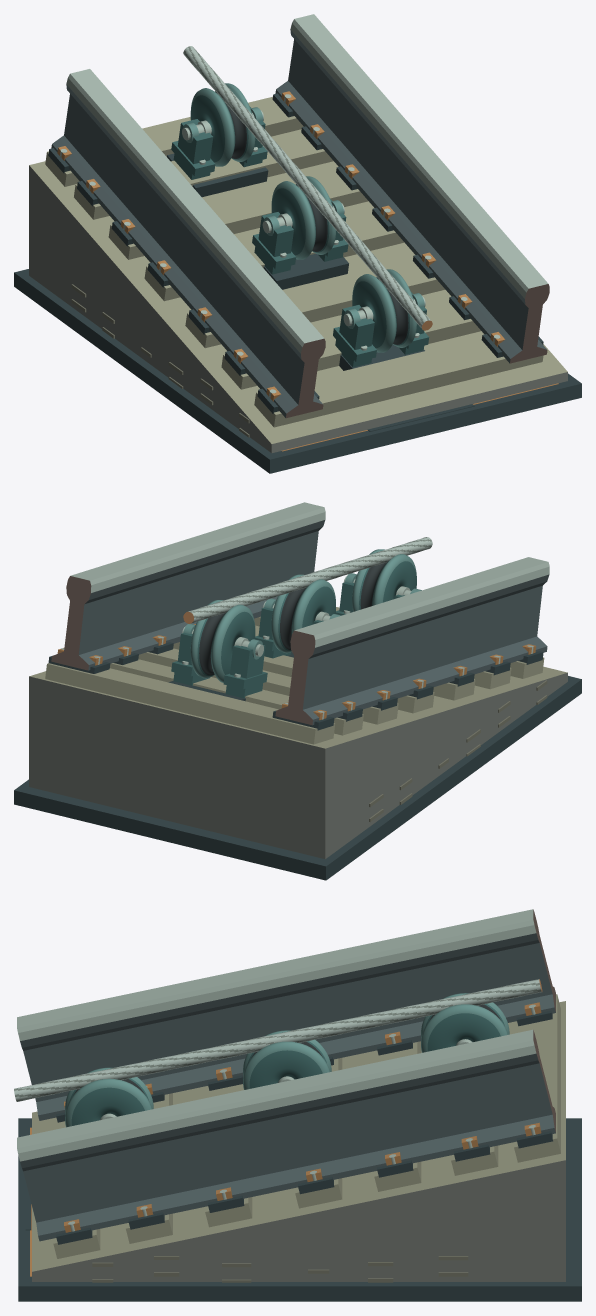
The model's file is funicular-cable-guide-roller-section.glb.
3 views of the same model, one above another, from view 1: azimuth 30°, elevation 25°; view 2: azimuth 150°, elevation 25°; view 3: azimuth 270°, elevation 25° (orthographic). The views are drawn at different scales.
Parts seen in each view (by area): view 1: Short solid slope sample heel, Continuous right section rail head web and foot, Continuous left section rail head web and foot, Clean low grayed exhibit plinth, Genuine transverse grey bearer 0, One unbroken sculpted centre haul rope, Genuine transverse grey bearer 2, Genuine transverse grey bearer 4, CONCAVE_GUIDE_ROLLER_3, CONCAVE_GUIDE_ROLLER_2, CONCAVE_GUIDE_ROLLER_1, Genuine transverse grey bearer 5 (+8 smaller); view 2: Short solid slope sample heel, Continuous left section rail head web and foot, Continuous right section rail head web and foot, Clean low grayed exhibit plinth, Genuine transverse grey bearer 6, CONCAVE_GUIDE_ROLLER_3, One unbroken sculpted centre haul rope, CONCAVE_GUIDE_ROLLER_2, CONCAVE_GUIDE_ROLLER_1, Genuine transverse grey bearer 5, Genuine transverse grey bearer 4, Genuine transverse grey bearer 3 (+4 smaller); view 3: Continuous right section rail head web and foot, Short solid slope sample heel, Continuous left section rail head web and foot, Clean low grayed exhibit plinth, One unbroken sculpted centre haul rope, CONCAVE_GUIDE_ROLLER_1, CONCAVE_GUIDE_ROLLER_2, CONCAVE_GUIDE_ROLLER_3, Genuine transverse grey bearer 6, Genuine transverse grey bearer 4, Genuine transverse grey bearer 2, Genuine transverse grey bearer 1 (+3 smaller).
Boxes of the visible parts, x1,y1,x2,y2 form: Short solid slope sample heel: (29, 129, 567, 453); Continuous right section rail head web and foot: (275, 14, 549, 363); Continuous left section rail head web and foot: (51, 69, 325, 418); Clean low grayed exhibit plinth: (14, 269, 581, 473); Genuine transverse grey bearer 0: (254, 337, 543, 427); One unbroken sculpted centre haul rope: (183, 46, 432, 330); Genuine transverse grey bearer 2: (185, 258, 444, 348); Genuine transverse grey bearer 4: (108, 170, 368, 259); CONCAVE_GUIDE_ROLLER_3: (190, 83, 255, 166); CONCAVE_GUIDE_ROLLER_2: (271, 176, 335, 259); CONCAVE_GUIDE_ROLLER_1: (352, 269, 416, 352); Genuine transverse grey bearer 5: (74, 129, 333, 219); Short solid slope sample heel: (29, 666, 567, 859); Continuous left section rail head web and foot: (275, 557, 549, 725); Continuous right section rail head web and foot: (51, 502, 325, 670); Clean low grayed exhibit plinth: (14, 676, 581, 880); Genuine transverse grey bearer 6: (45, 663, 335, 744); CONCAVE_GUIDE_ROLLER_3: (190, 600, 255, 682); One unbroken sculpted centre haul rope: (183, 537, 432, 623); CONCAVE_GUIDE_ROLLER_2: (271, 574, 335, 653); CONCAVE_GUIDE_ROLLER_1: (352, 549, 416, 611); Genuine transverse grey bearer 5: (110, 659, 363, 735); Genuine transverse grey bearer 4: (138, 648, 398, 724); Genuine transverse grey bearer 3: (173, 642, 434, 713); Continuous right section rail head web and foot: (17, 1029, 555, 1241); Short solid slope sample heel: (32, 1001, 565, 1281); Continuous left section rail head web and foot: (17, 909, 555, 1120); Clean low grayed exhibit plinth: (18, 1118, 581, 1301); One unbroken sculpted centre haul rope: (14, 979, 542, 1101); CONCAVE_GUIDE_ROLLER_1: (65, 1067, 153, 1127); CONCAVE_GUIDE_ROLLER_2: (243, 1030, 331, 1089); CONCAVE_GUIDE_ROLLER_3: (421, 993, 509, 1052); Genuine transverse grey bearer 6: (514, 994, 560, 1162); Genuine transverse grey bearer 4: (374, 1041, 421, 1191); Genuine transverse grey bearer 2: (205, 1084, 252, 1227); Genuine transverse grey bearer 1: (125, 1093, 172, 1243).
Size of the model in its own units: 1.32 by 0.8889 by 1.88.
